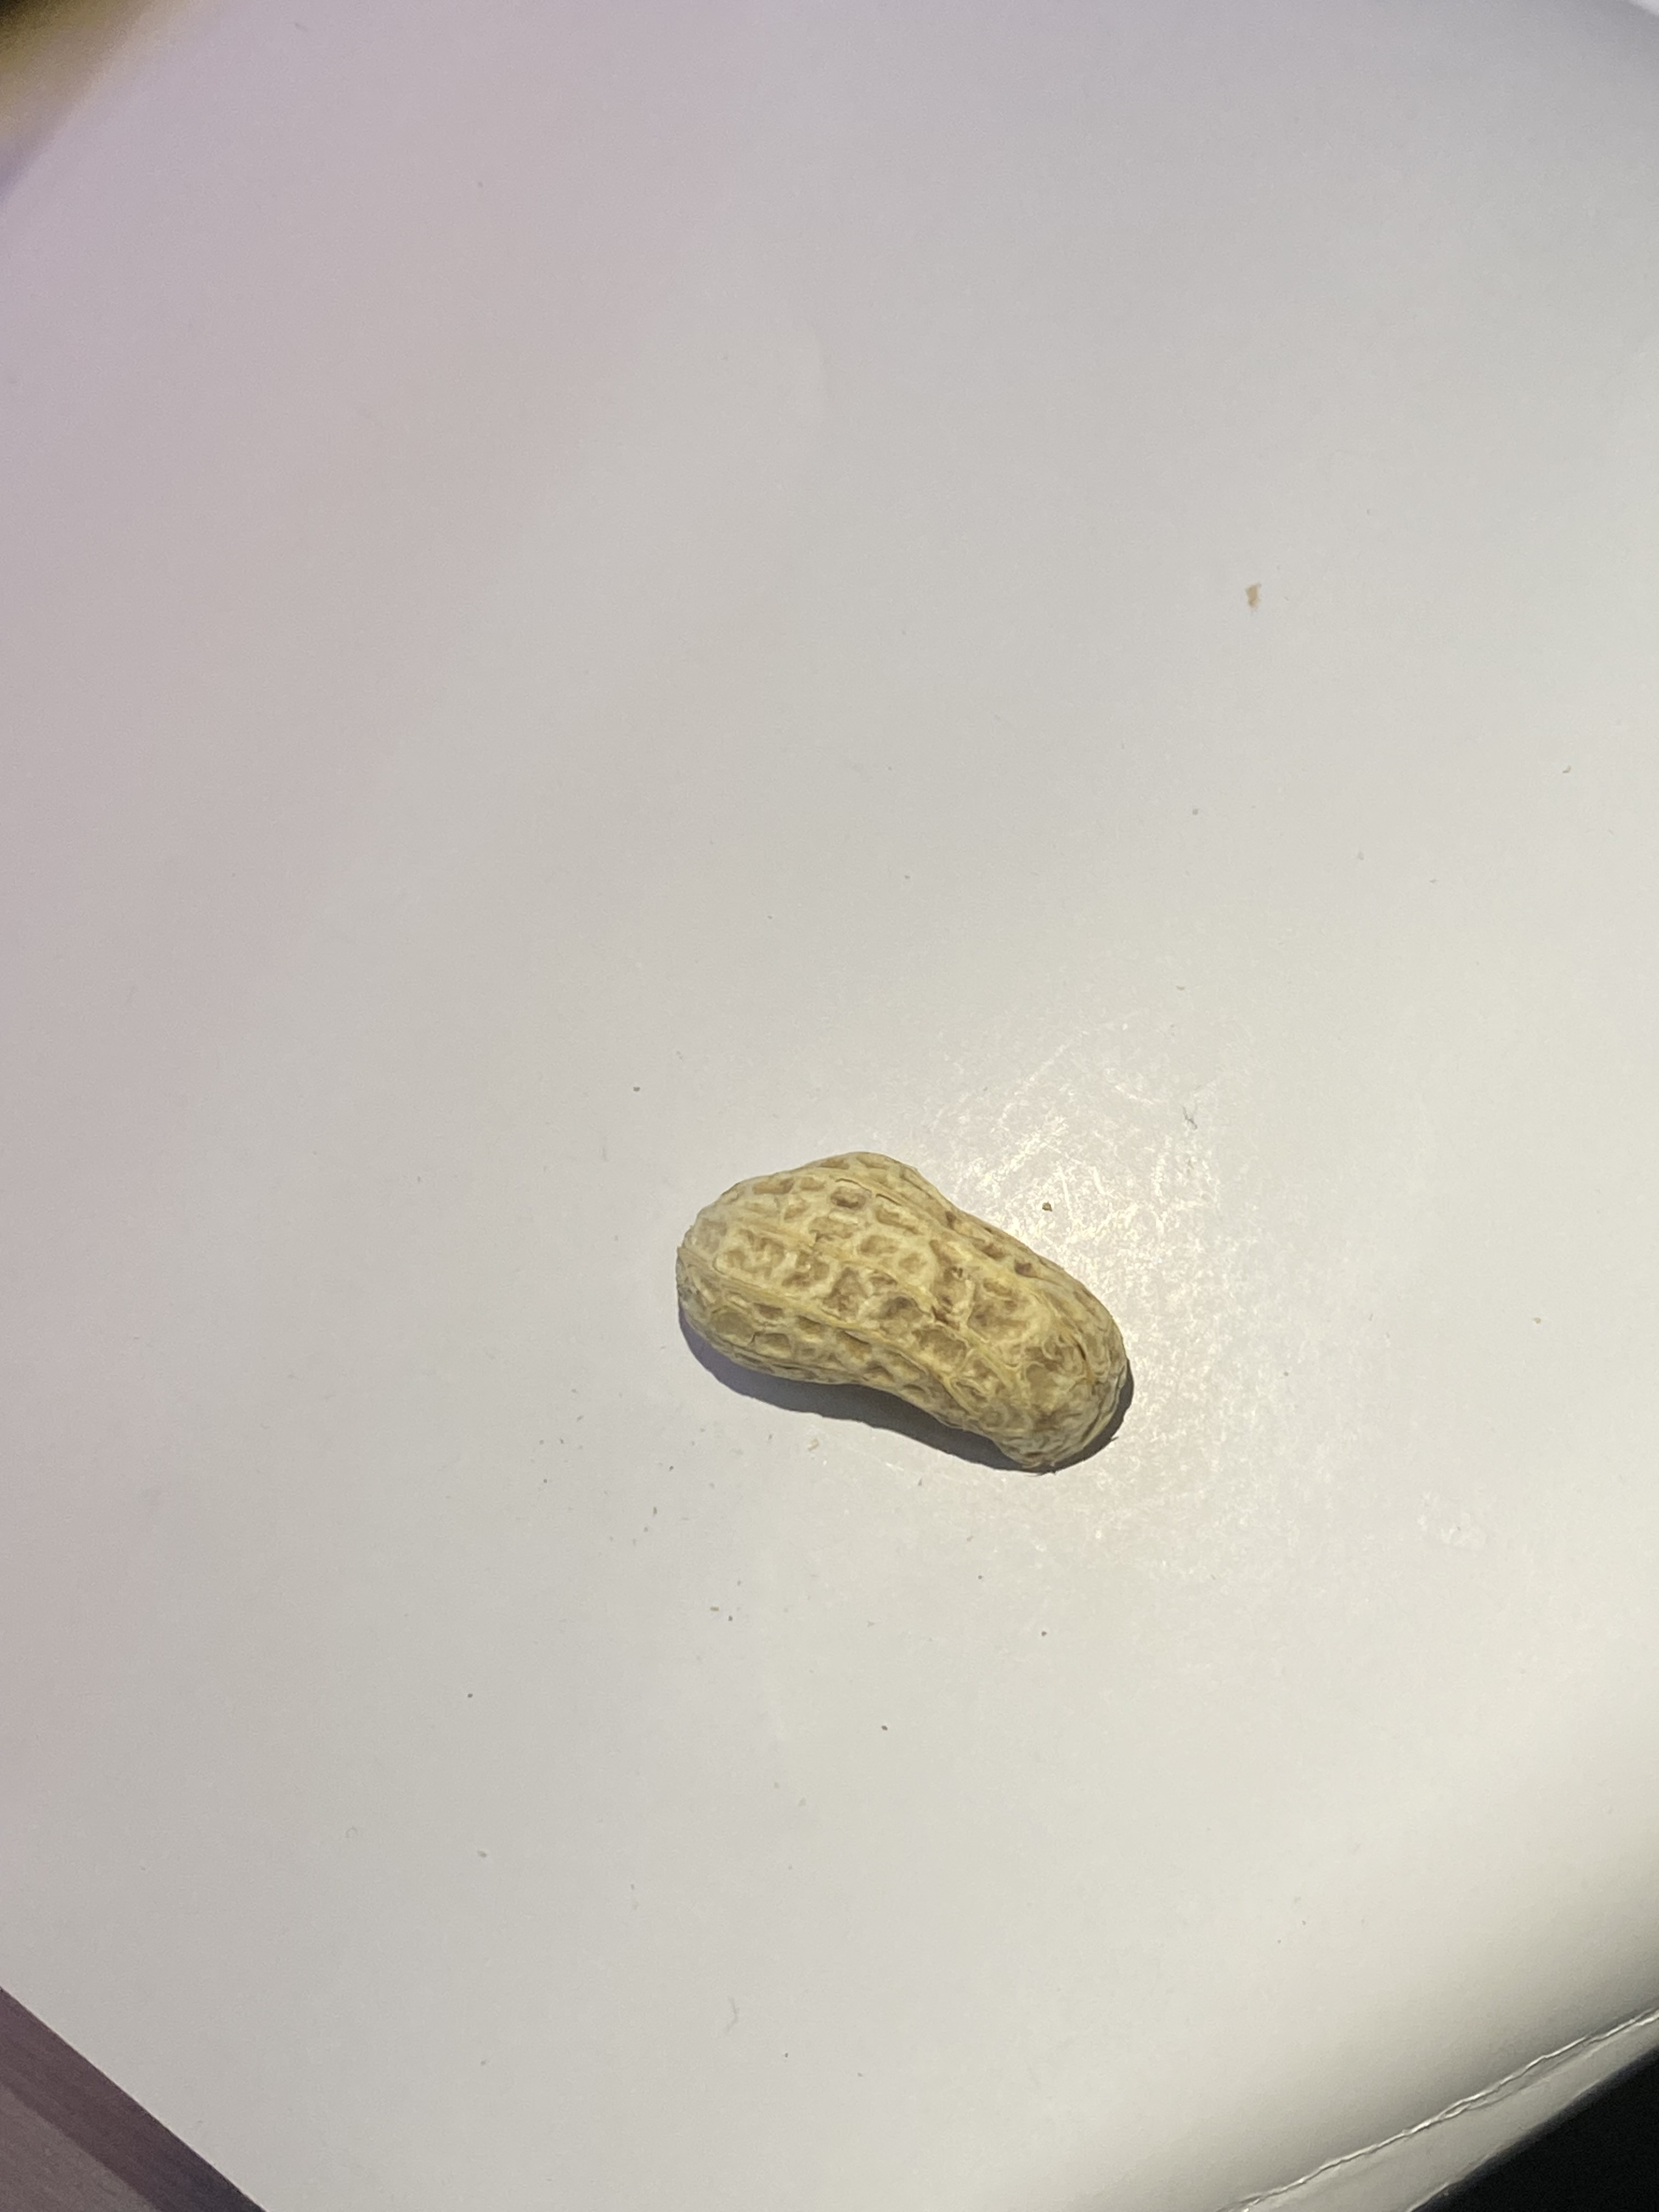kacang2: (657, 1092, 1154, 1474)
